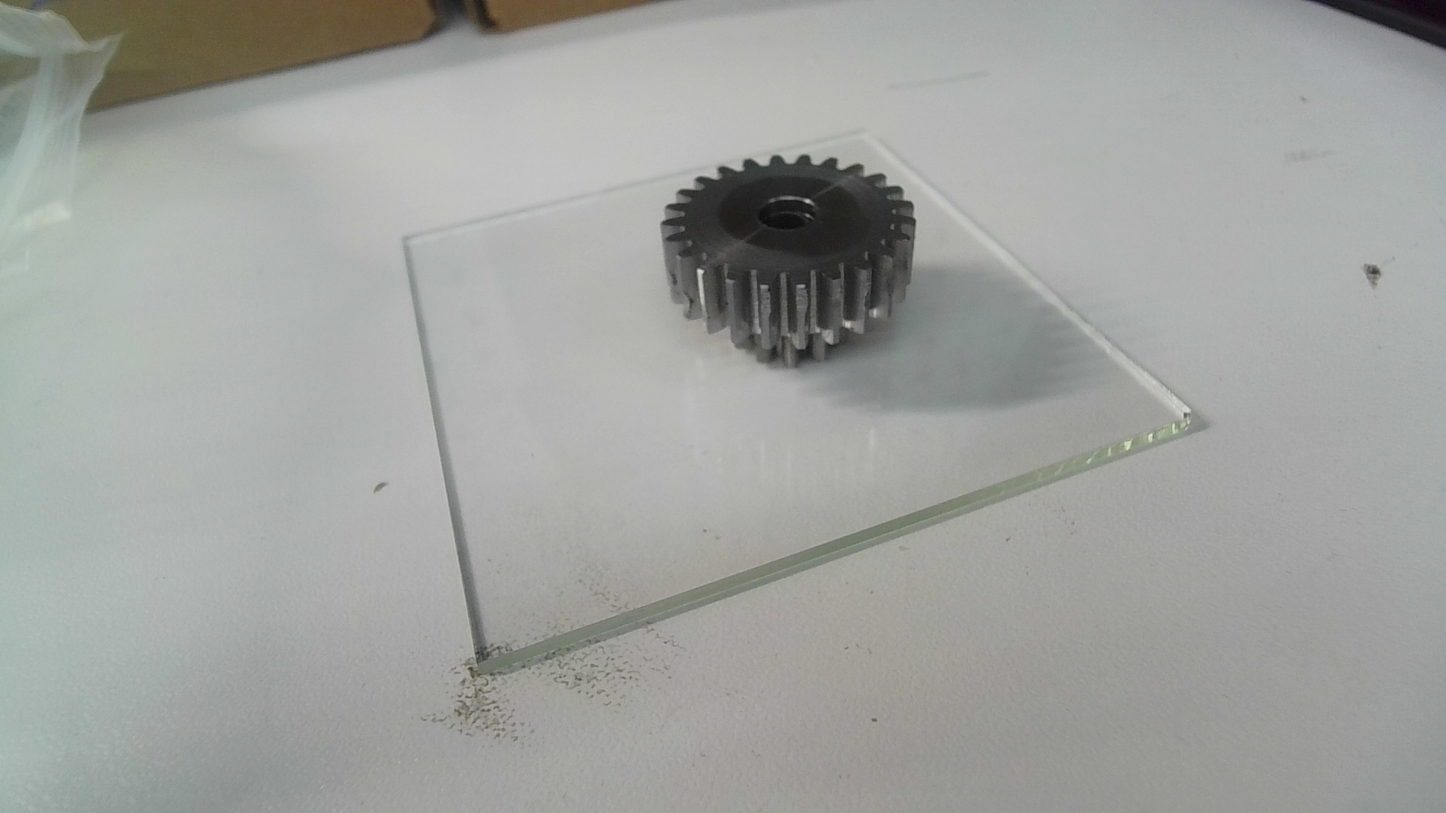gear: (660, 152, 917, 370)
